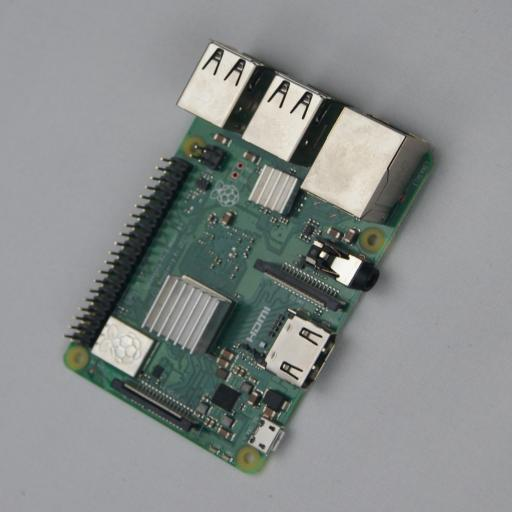Raspberry Pi 3 B-: (64, 41, 442, 472)
